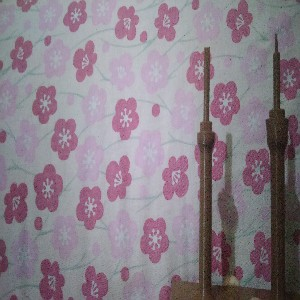obeng: (196, 45, 217, 300)
solder: (265, 31, 289, 300)
